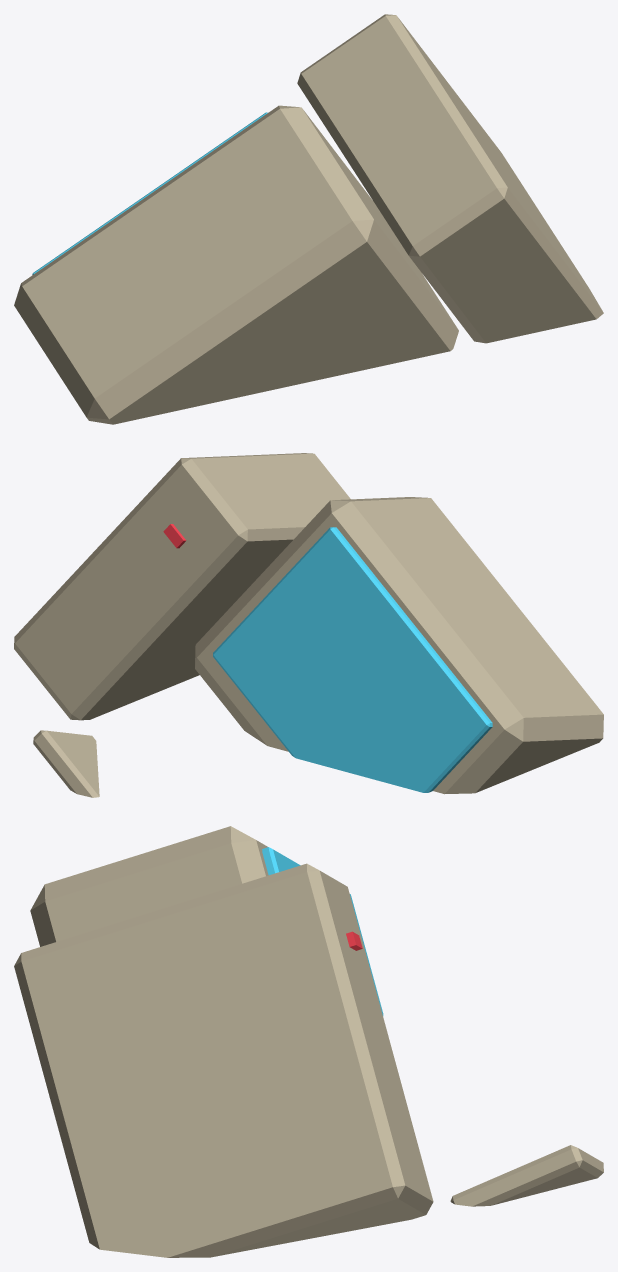
The model's file is prop_desktop_computer_noclipped.obj.
3 views of the same model, one above another, from view 1: azimuth 30°, elevation 25°; view 2: azimuth 150°, elevation 25°; view 3: azimuth 270°, elevation 25° (orthographic). The views are drawn at different scales.
Visible parts, largest first — view 1: MonitorShell, Tower, Screen; view 2: Tower, Screen, MonitorShell, Keyboard; view 3: Tower, MonitorShell, Keyboard, Screen.
Boxes of the visible parts, x1=… form: MonitorShell: x1=14, y1=105, x2=458, y2=424; Tower: x1=297, y1=14, x2=603, y2=343; Screen: x1=32, y1=112, x2=267, y2=274; Tower: x1=14, y1=453, x2=350, y2=720; Screen: x1=213, y1=527, x2=492, y2=792; MonitorShell: x1=195, y1=497, x2=603, y2=794; Keyboard: x1=33, y1=730, x2=99, y2=797; Tower: x1=14, y1=863, x2=433, y2=1257; MonitorShell: x1=30, y1=826, x2=268, y2=946; Keyboard: x1=450, y1=1145, x2=603, y2=1206; Screen: x1=262, y1=847, x2=383, y2=1015.
Bounding box in the file's own units: 1 × 0.4849 × 0.8326.
